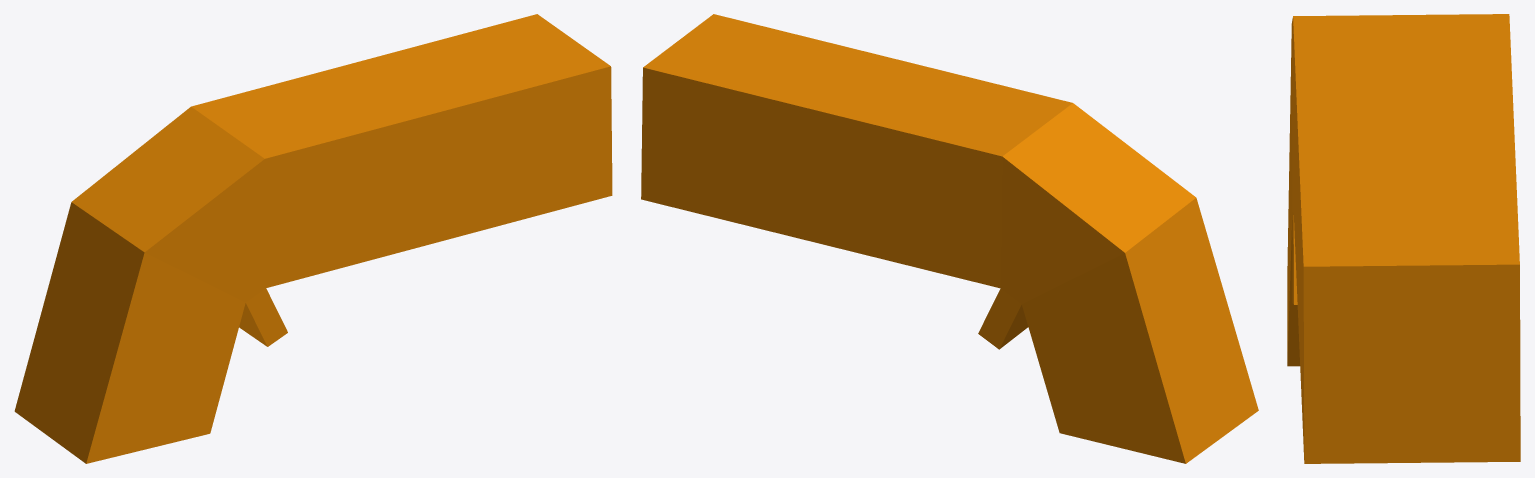
File: Gun.fbx
The picture shows the model from 3 angles, left to right: view 1: azimuth 30°, elevation 25°; view 2: azimuth 150°, elevation 25°; view 3: azimuth 270°, elevation 25°; orthographic projection. The views are drawn at different scales.
Visible parts, largest first — view 1: Cube; view 2: Cube; view 3: Cube.
Boxes of the visible parts, x1=… form: Cube: x1=14, y1=14, x2=612, y2=463; Cube: x1=641, y1=14, x2=1258, y2=463; Cube: x1=1287, y1=14, x2=1520, y2=463.
Bounding box in the file's own units: 857 × 407 × 216.
